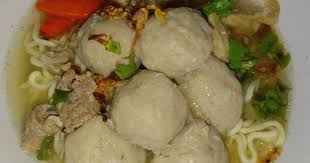bakso: (45, 10, 274, 163)
